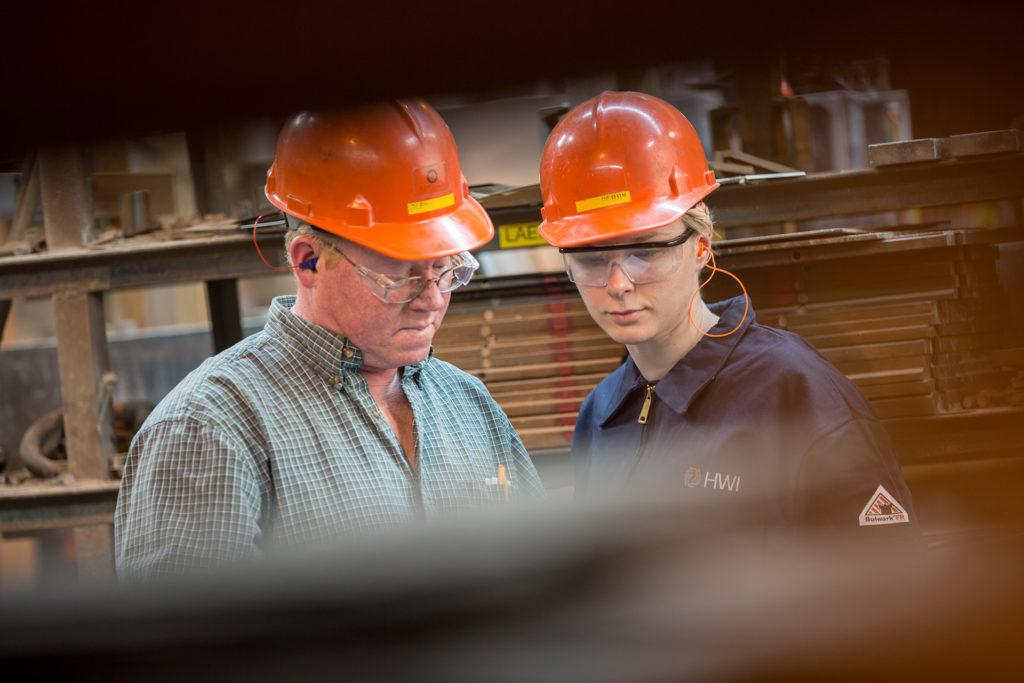helmet: (271, 94, 495, 266), (532, 89, 716, 236)
